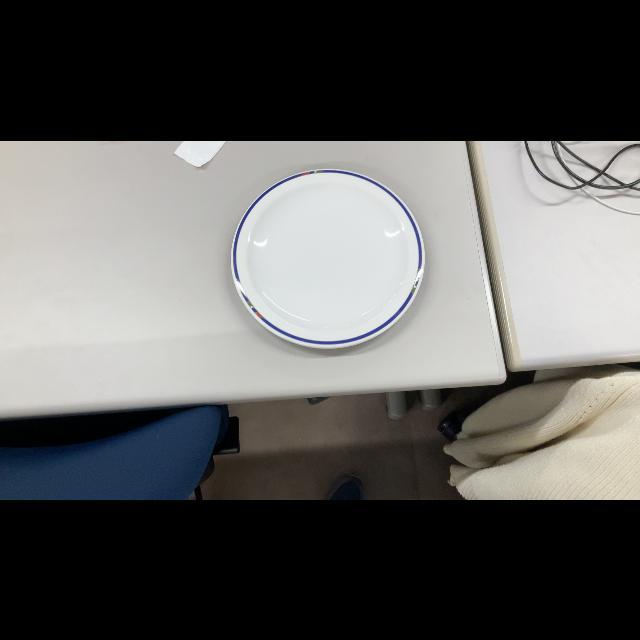Plate: (228, 165, 427, 352)
